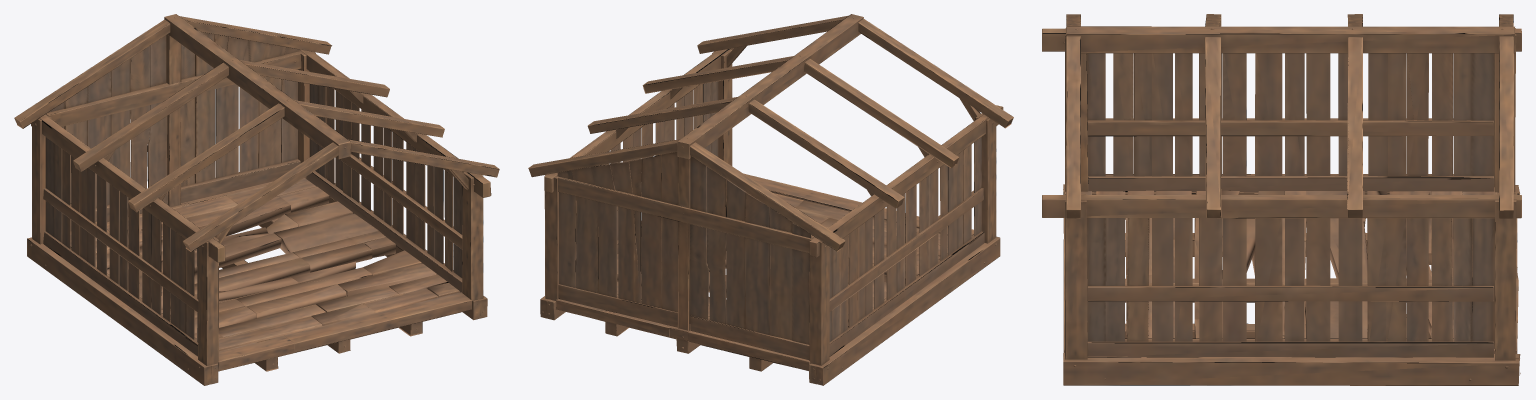
Rendered from wooden_cabin_interior.glb.
The picture shows the model from 3 angles, left to right: view 1: azimuth 30°, elevation 25°; view 2: azimuth 150°, elevation 25°; view 3: azimuth 270°, elevation 25°; orthographic projection. The views are drawn at different scales.
Parts seen in each view (by area): view 1: geometry_0; view 2: geometry_0; view 3: geometry_0.
Boxes of the visible parts, x1,y1,x2,y2 form: geometry_0: [14, 14, 499, 385]; geometry_0: [528, 14, 1013, 385]; geometry_0: [1042, 14, 1521, 385].
Size of the model in its own units: 0.9106 by 0.5864 by 0.9419.
Materials: 1 (1 with a texture image).
